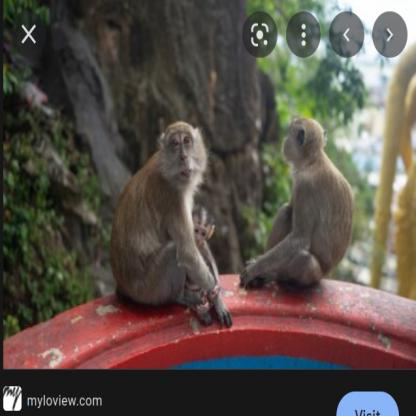monkey: (107, 119, 234, 330), (239, 115, 357, 298)
